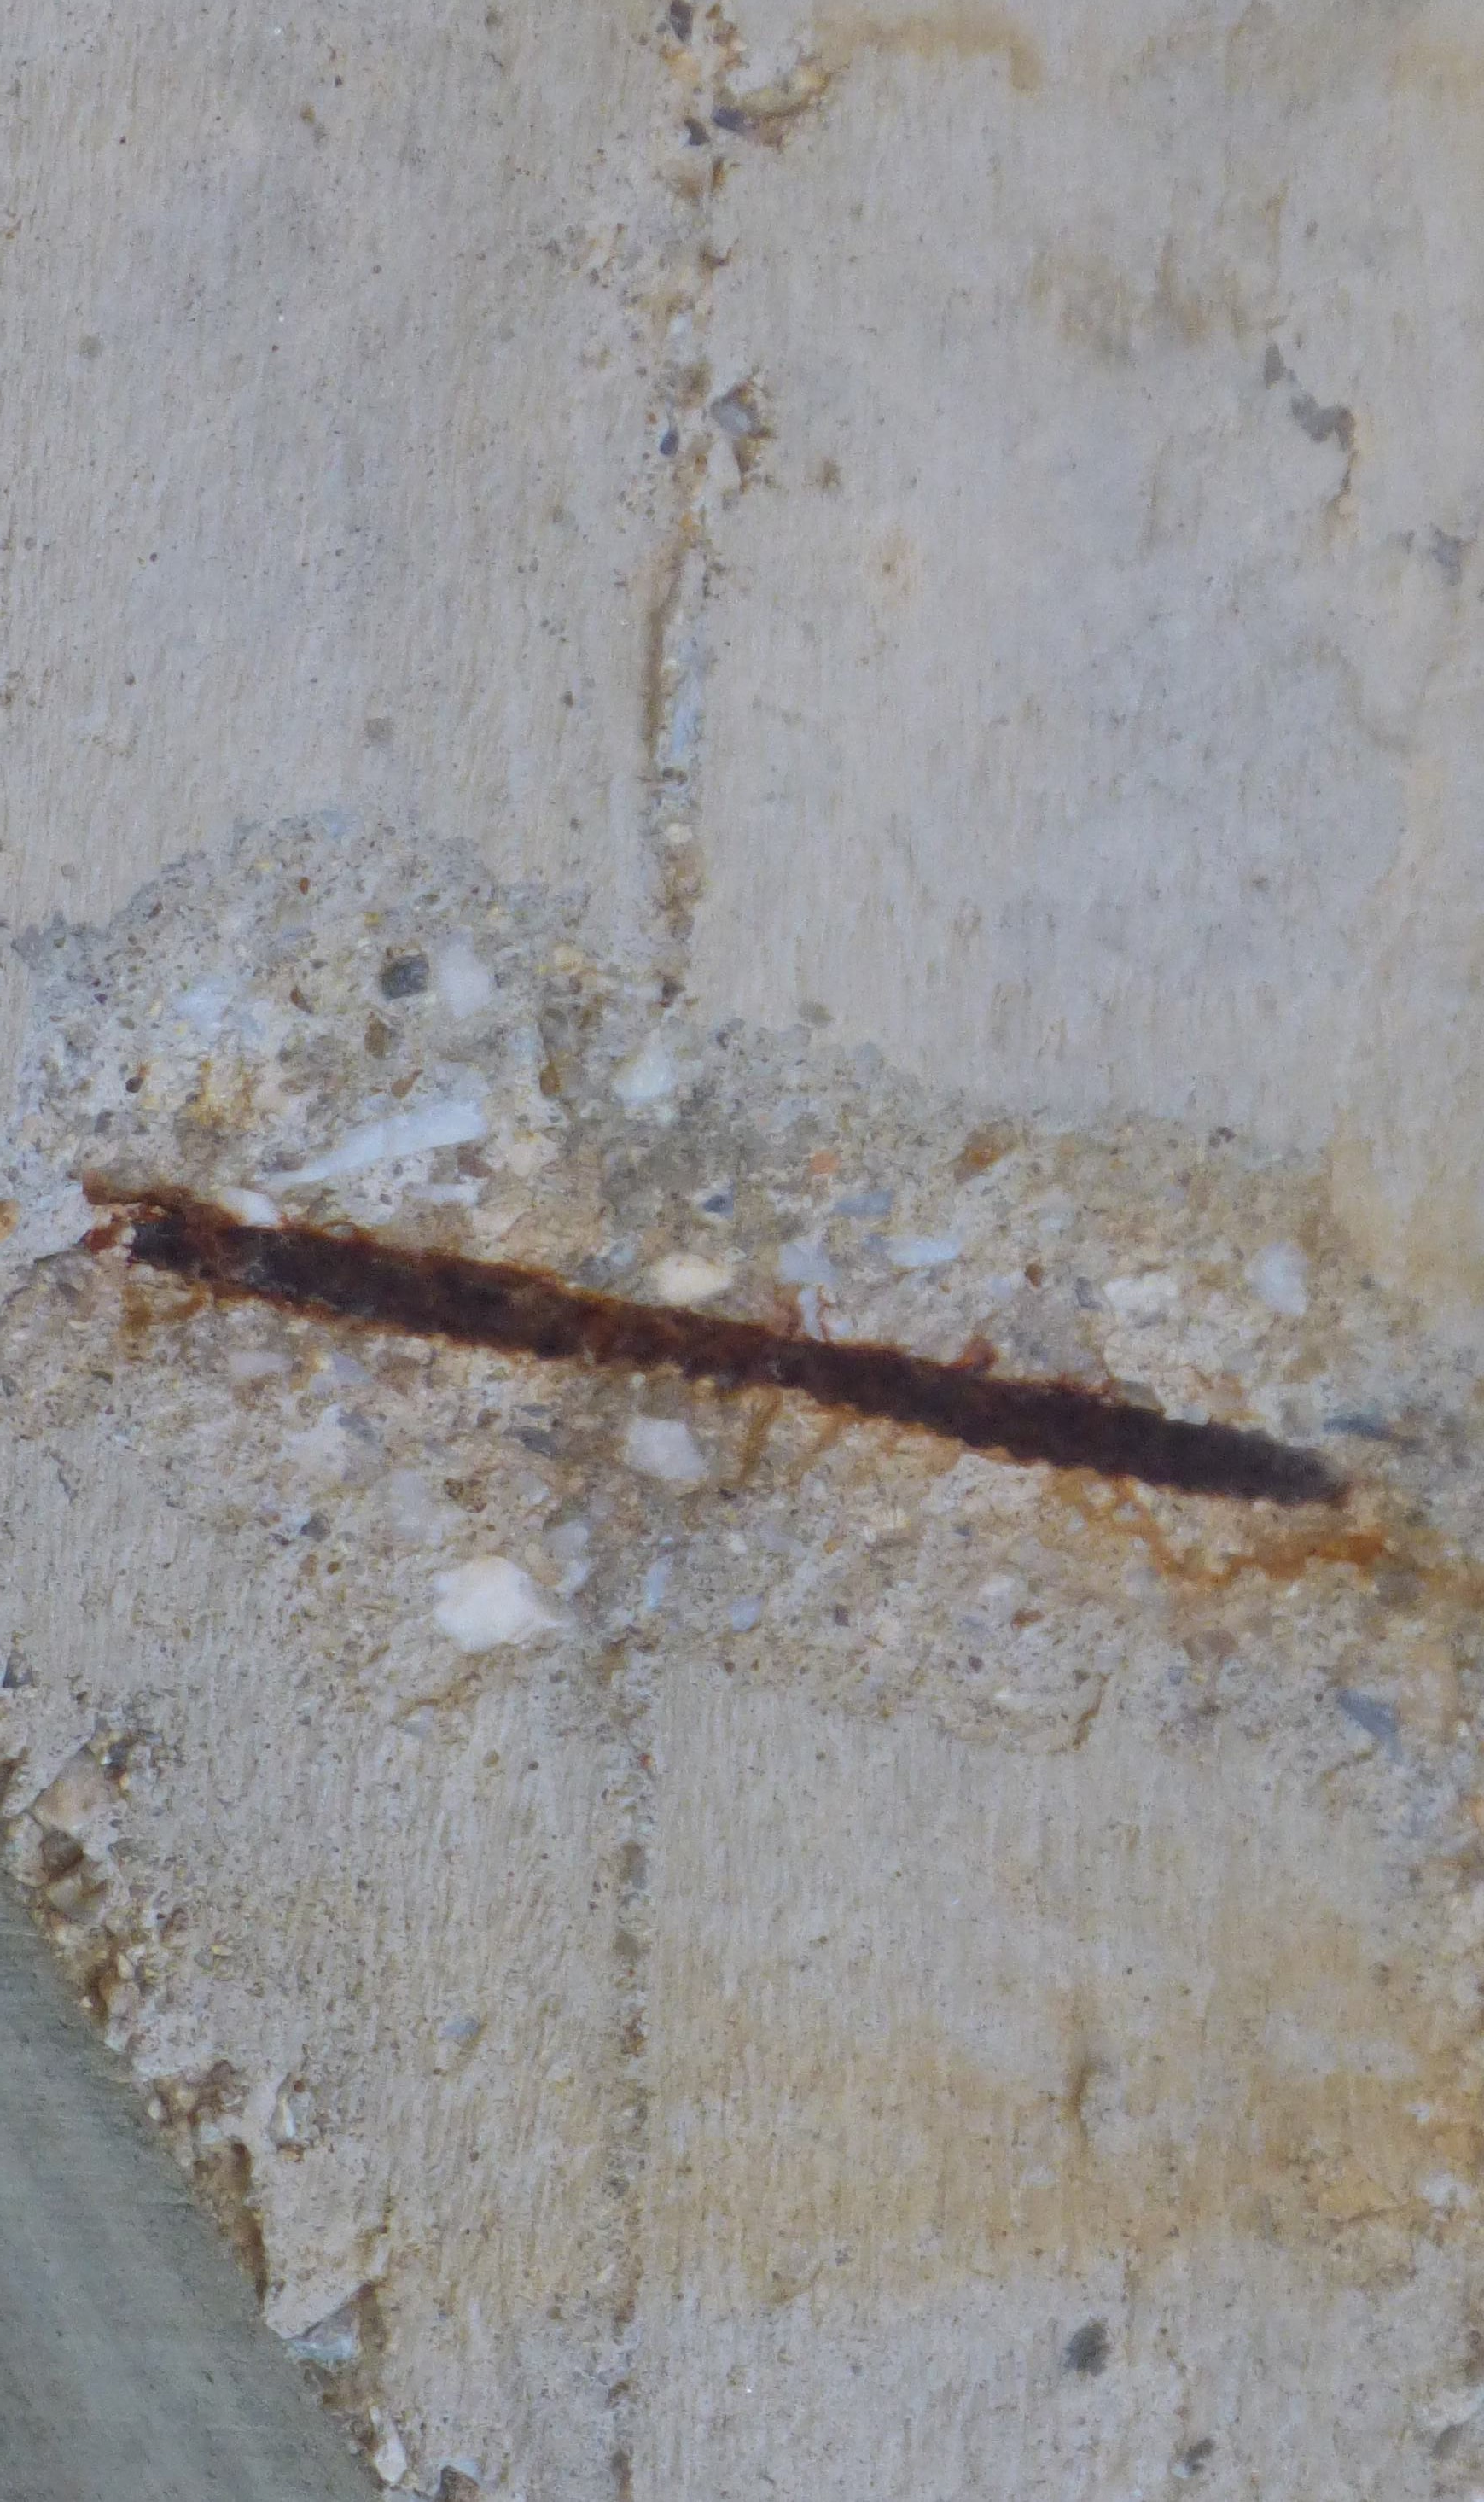Exposed reinforcement: (131, 1214, 1350, 1511)
Spalling: (0, 806, 1484, 1901)
